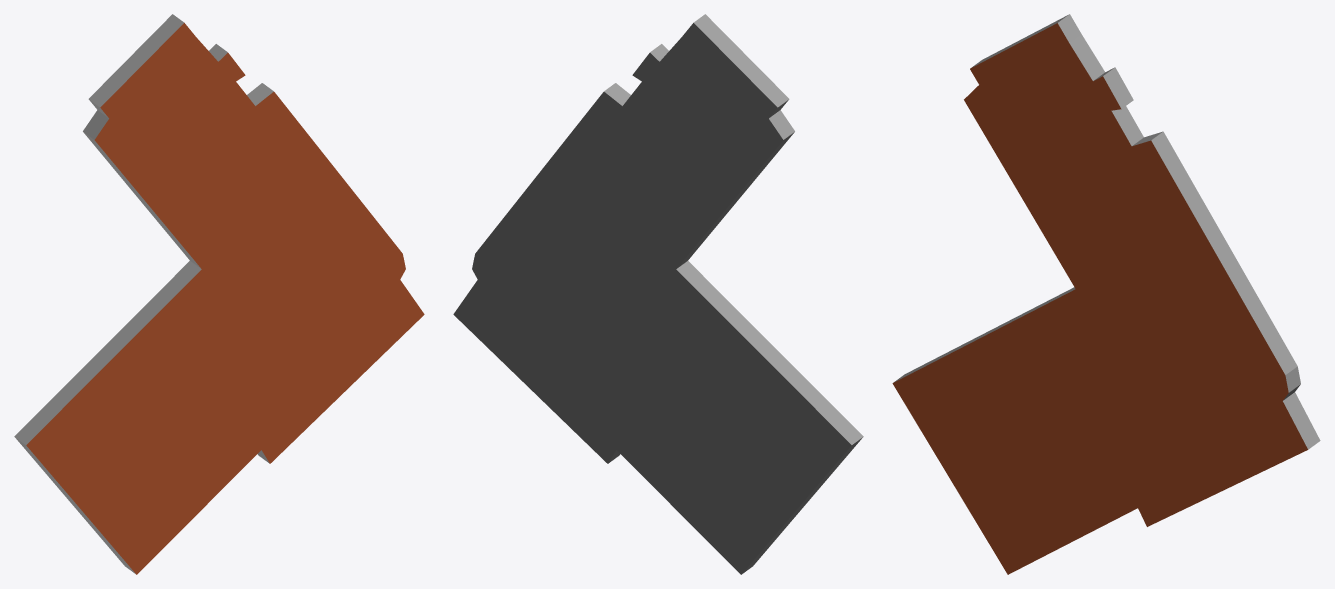
Rendered from construction_0093_assumed_A_Grande_construcao_h6m.obj.
The picture shows the model from 3 angles, left to right: view 1: azimuth 30°, elevation 25°; view 2: azimuth 150°, elevation 25°; view 3: azimuth 330°, elevation 25°; orthographic projection. The views are drawn at different scales.
Visible parts, largest first — view 1: construction_0093_assumed_A_Grande_construcao; view 2: construction_0093_assumed_A_Grande_construcao; view 3: construction_0093_assumed_A_Grande_construcao.
Boxes of the visible parts, x1,y1,x2,y2 form: construction_0093_assumed_A_Grande_construcao: [14, 14, 424, 574]; construction_0093_assumed_A_Grande_construcao: [453, 14, 863, 574]; construction_0093_assumed_A_Grande_construcao: [892, 14, 1320, 574].
Size of the model in its own units: 117 by 151 by 6.
